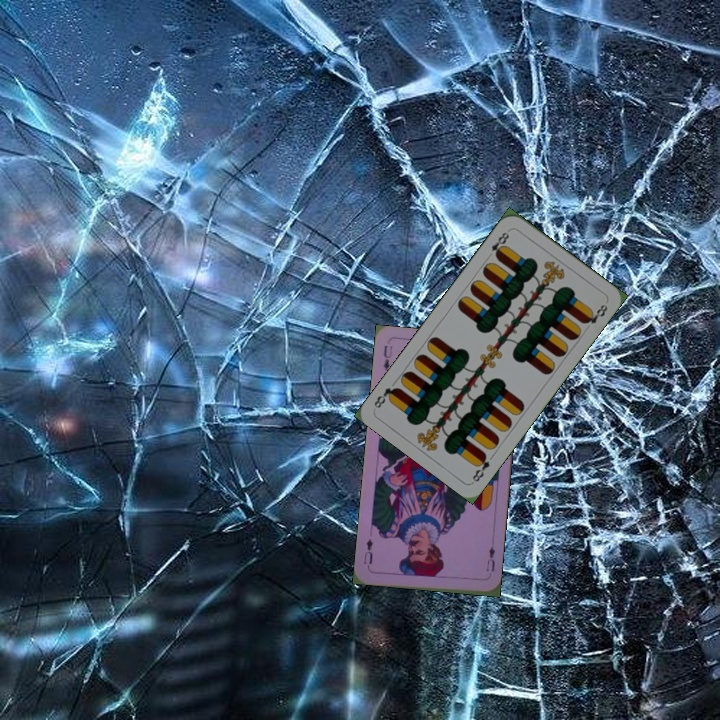E8: (483, 226, 512, 261), (468, 449, 492, 485)
EU: (379, 341, 395, 373), (482, 542, 497, 574)
